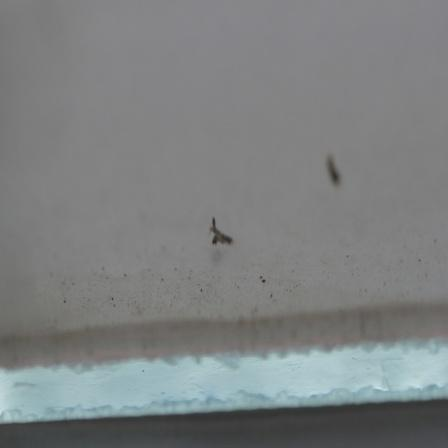Jentik-Nyamuk: (206, 212, 234, 250)
